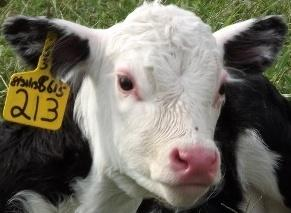muzzles: (153, 137, 223, 211)
